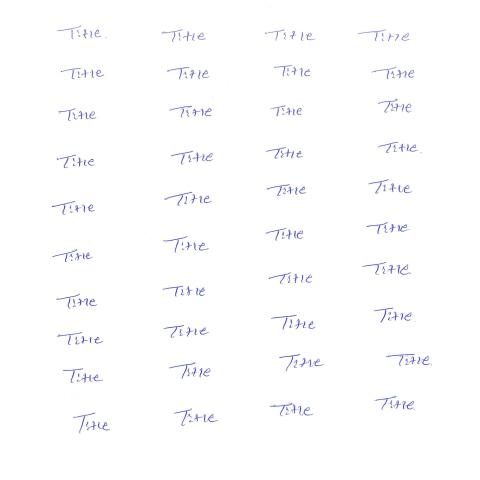Heading: (279, 354, 326, 372), (73, 413, 111, 435), (174, 409, 220, 427), (163, 236, 210, 253), (163, 192, 214, 207), (169, 363, 212, 380), (57, 332, 105, 347), (57, 294, 99, 311), (363, 262, 413, 276), (163, 325, 209, 340), (357, 30, 410, 43), (368, 180, 413, 195), (167, 66, 211, 81), (271, 316, 315, 331), (373, 308, 414, 324), (171, 151, 214, 166), (264, 30, 317, 42), (57, 26, 102, 40), (51, 201, 96, 215), (374, 397, 416, 412), (62, 369, 103, 384), (161, 30, 208, 43), (60, 68, 106, 81), (270, 405, 315, 418), (385, 355, 433, 367), (56, 156, 97, 170), (372, 67, 416, 80), (367, 223, 411, 236), (168, 107, 214, 119), (268, 273, 314, 285), (59, 108, 98, 122), (265, 228, 304, 242), (162, 286, 207, 298), (52, 250, 93, 263), (274, 65, 312, 79), (377, 100, 412, 115), (377, 142, 420, 154), (265, 148, 305, 160), (267, 185, 306, 197), (270, 105, 303, 118)
